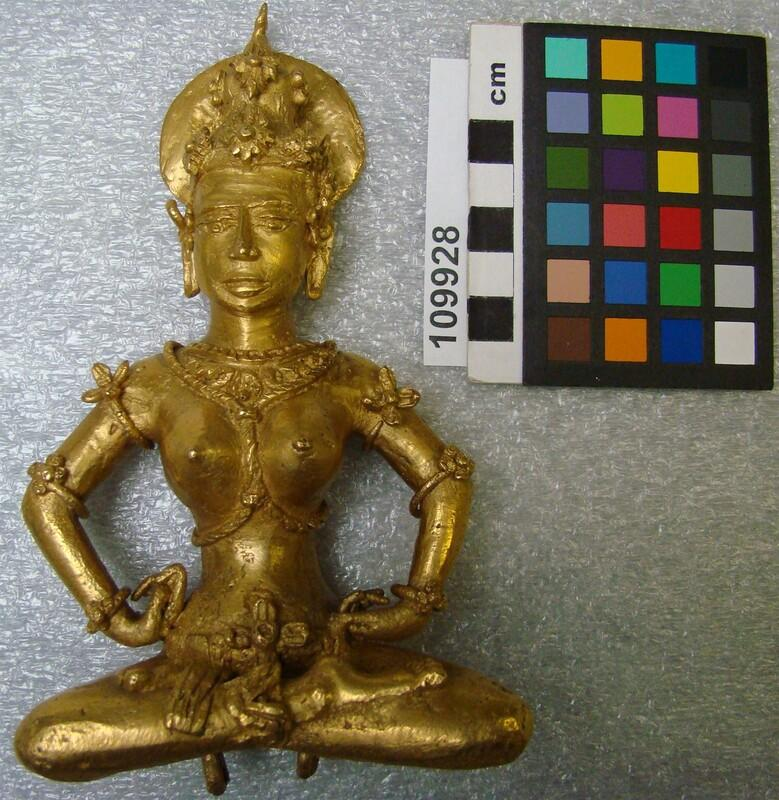golden_tara_of_agusan: (0, 2, 538, 786)
